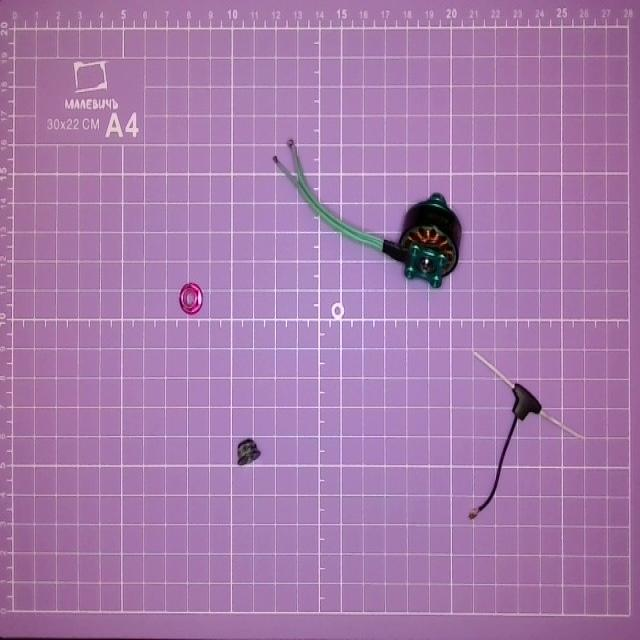antenna: (464, 350, 584, 526)
motor: (274, 138, 461, 291)
screw_M3: (330, 300, 344, 323)
screw_M5: (174, 284, 206, 315), (235, 437, 260, 468)
